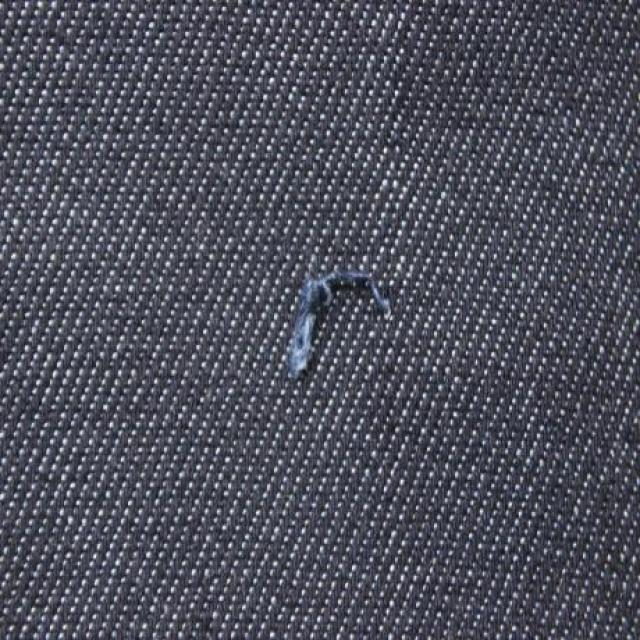stains: (176, 194, 508, 444)
